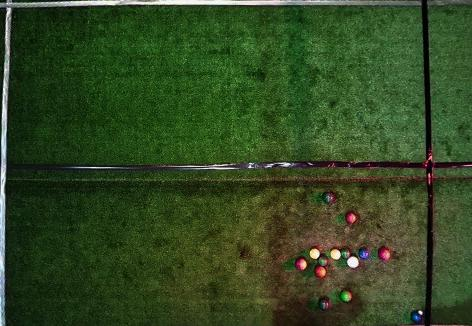blue: (358, 249, 369, 259), (411, 312, 421, 323)
green: (340, 290, 353, 302), (319, 298, 330, 310), (323, 192, 334, 203), (318, 256, 328, 266), (341, 249, 350, 259)
red: (314, 265, 326, 277), (378, 248, 390, 260), (347, 256, 359, 268), (295, 259, 307, 270), (345, 213, 356, 224)
vline: (421, 0, 471, 325), (0, 0, 14, 325)
white: (418, 310, 423, 315)
yellow: (330, 249, 341, 260), (309, 249, 320, 259)
